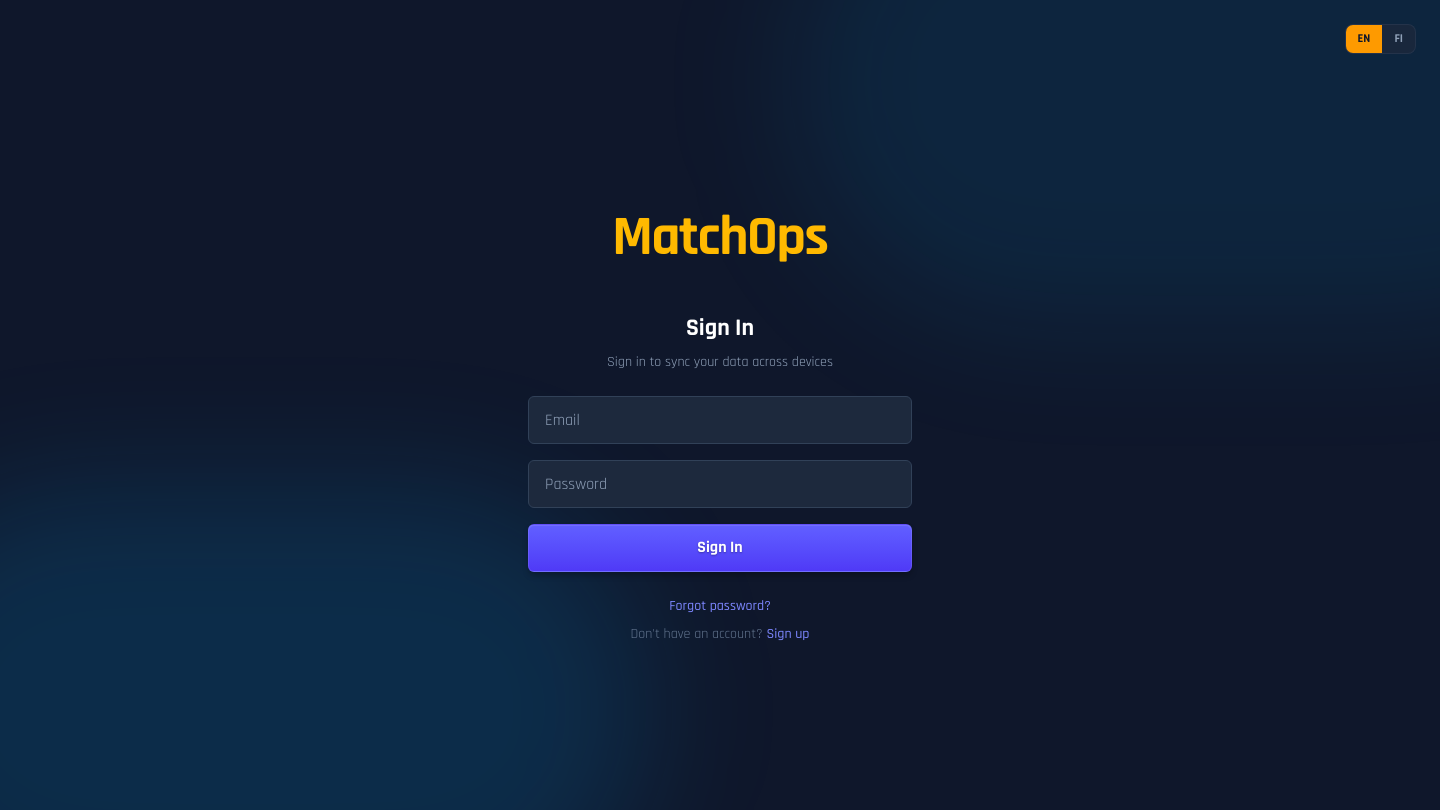
LoginScreen › sign up mode › should switch to sign up mode
Click the button "Sign up": (788, 634) [766,624,809,644]
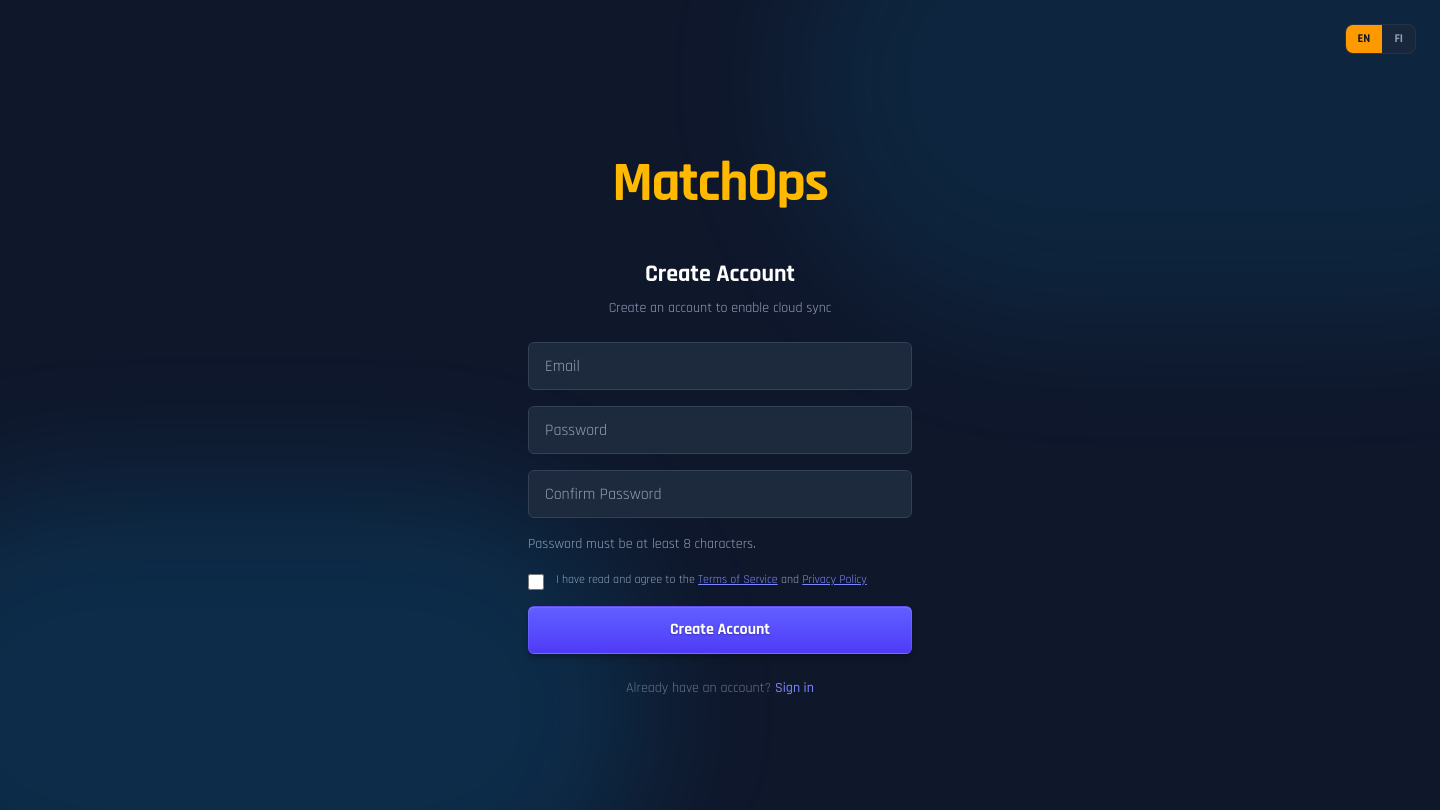
Expected: the heading "Create Account" is shown, [645,259,795,289]
Expected: the password field with placeholder "Confirm Password" is shown, [528,470,912,518]
